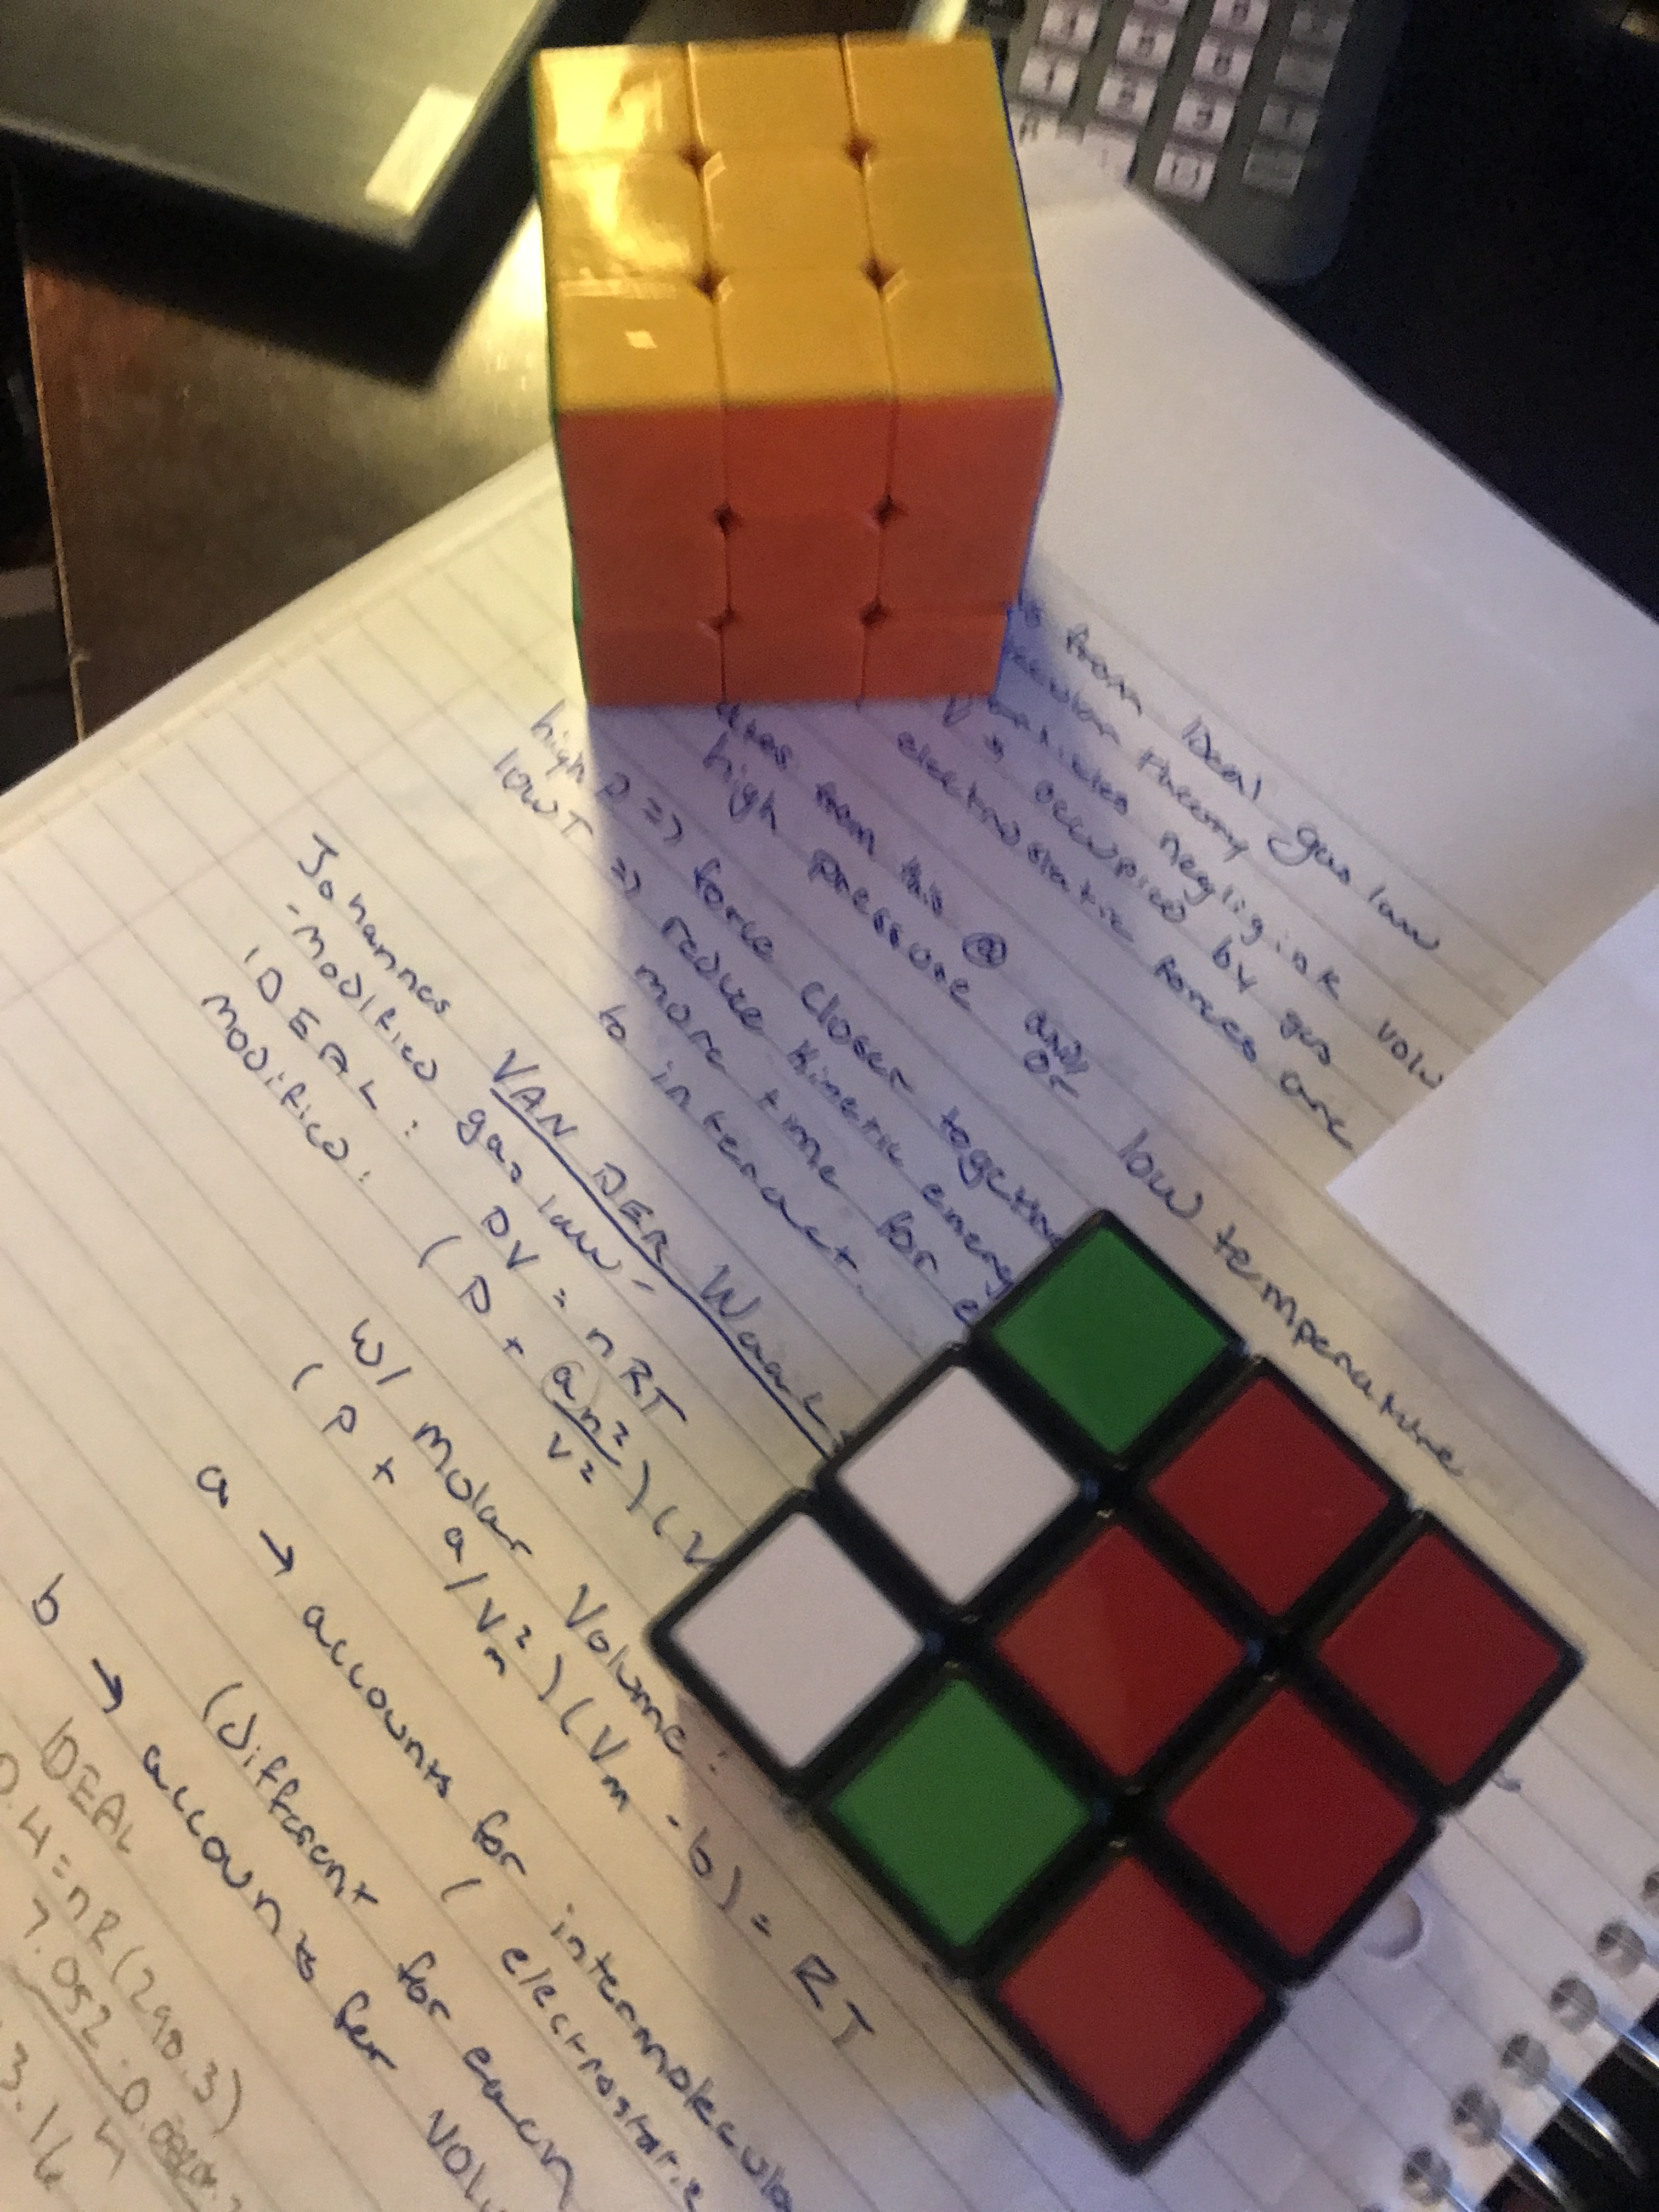rubiks: (641, 1211, 1586, 2179), (528, 49, 1063, 711)
